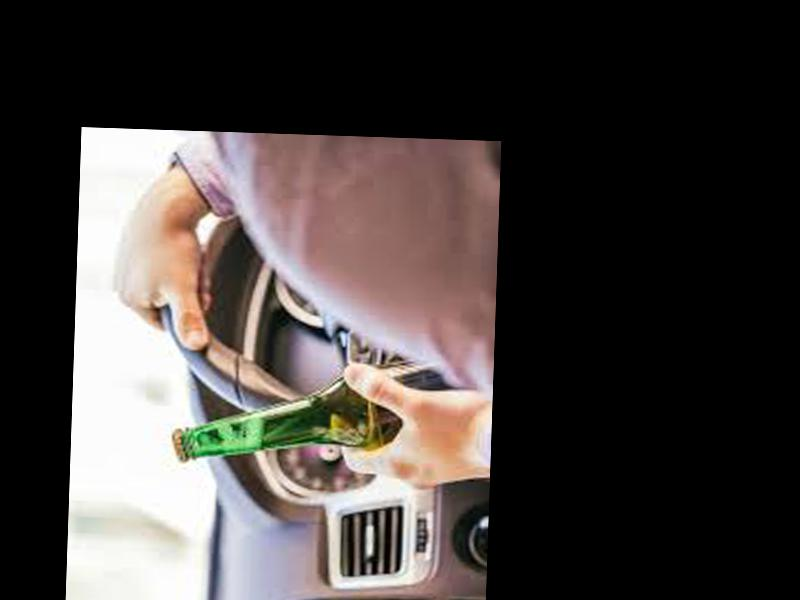Beer: (169, 353, 462, 473)
